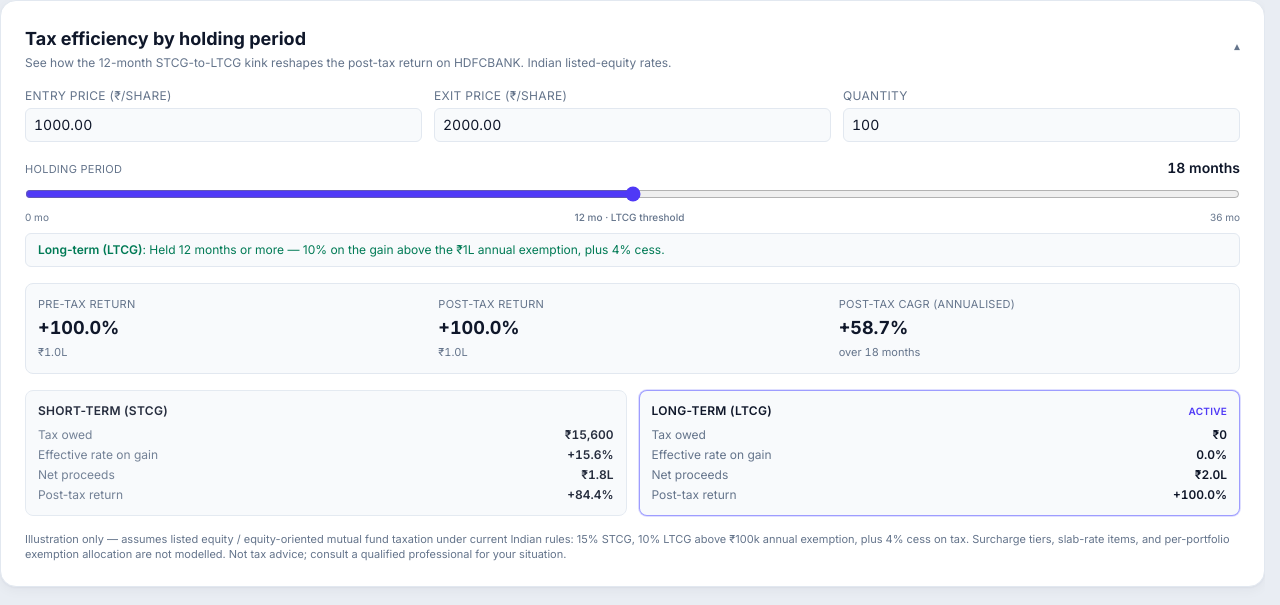
Test: TaxEfficiencyCalculator — slider interactivity › slider readout updates as user drags
Set the slider with test id "tax-months-slider" to "24". click: (832, 194)
box: [25,186,1240,202]
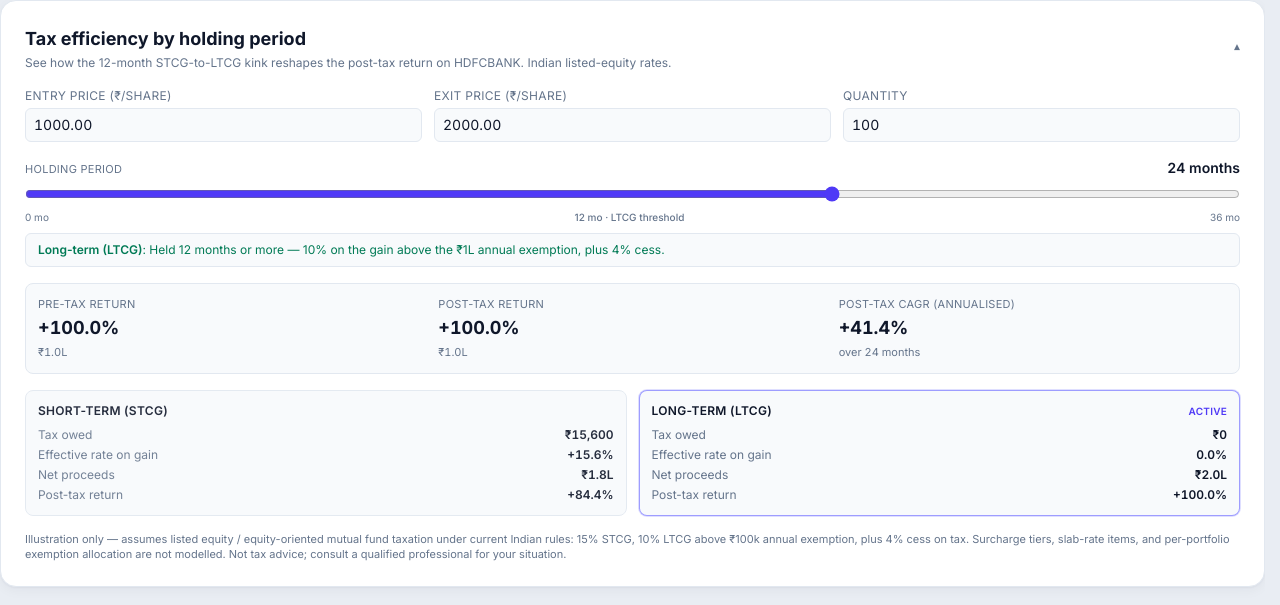
Check: the text with test id "tax-months-readout" reads "24 months", box [1167,158,1240,178]
